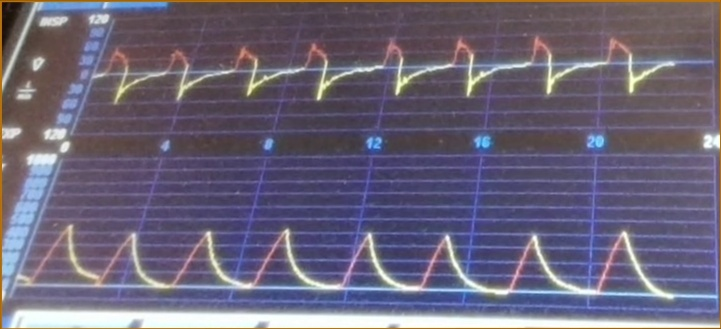Accumulation Flow: (107, 33, 673, 130)
Volume: (36, 218, 672, 309)
